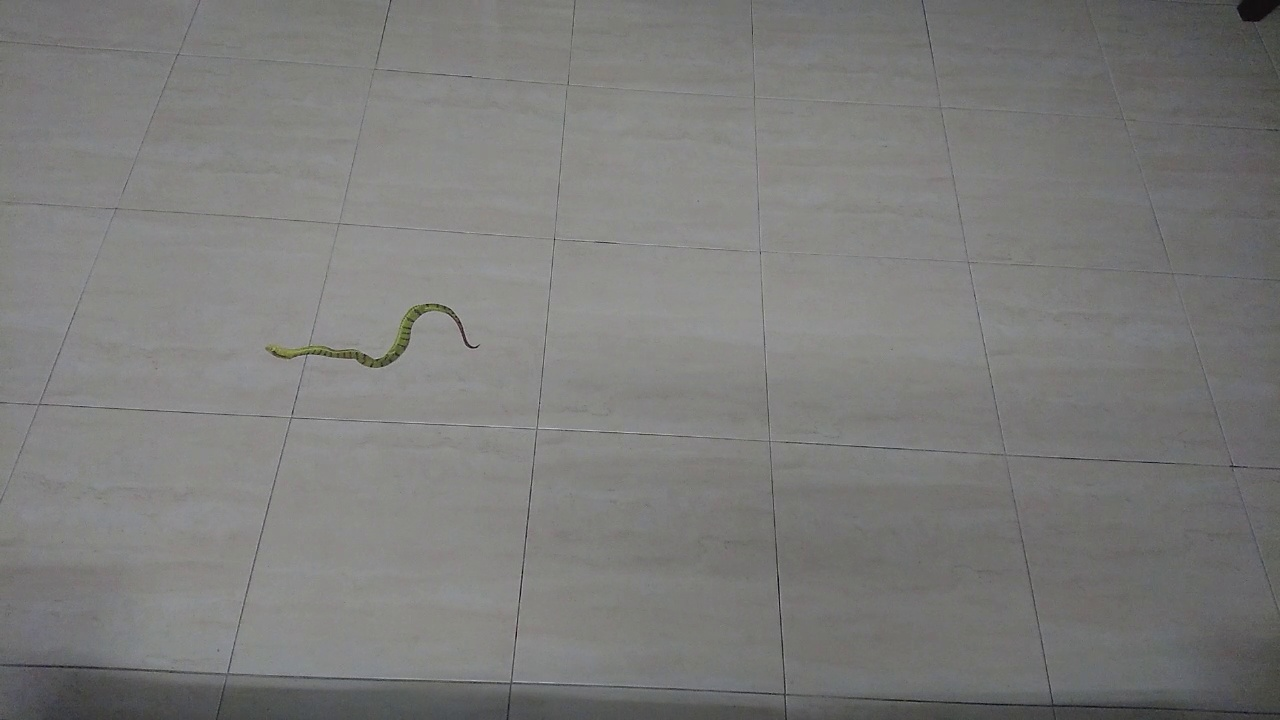snake: (247, 288, 500, 388)
